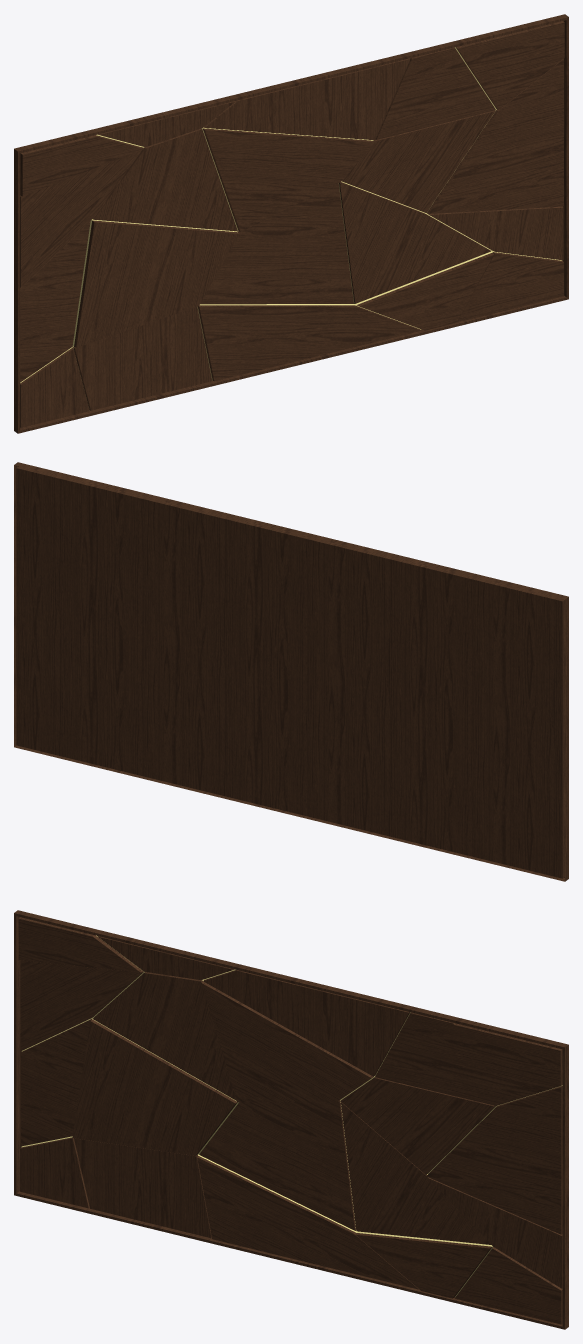
File: CR04_Wooden_Panel.FBX
3 views of the same model, one above another, from view 1: azimuth 30°, elevation 25°; view 2: azimuth 150°, elevation 25°; view 3: azimuth 330°, elevation 25° (orthographic).
Visible parts, largest first — view 1: CR04_Wooden_Panel, CR04_Wooden_Panel_Lit; view 2: CR04_Wooden_Panel; view 3: CR04_Wooden_Panel, CR04_Wooden_Panel_Lit.
Boxes of the visible parts, box(x1,y1,x2,y2) form: CR04_Wooden_Panel: box(14, 14, 568, 433); CR04_Wooden_Panel_Lit: box(20, 47, 561, 382); CR04_Wooden_Panel: box(14, 462, 568, 881); CR04_Wooden_Panel: box(14, 910, 568, 1329); CR04_Wooden_Panel_Lit: box(21, 935, 562, 1296).
Size of the model in its own units: 2993 by 1465 by 36.95.
Materials: 3 (2 with a texture image).
